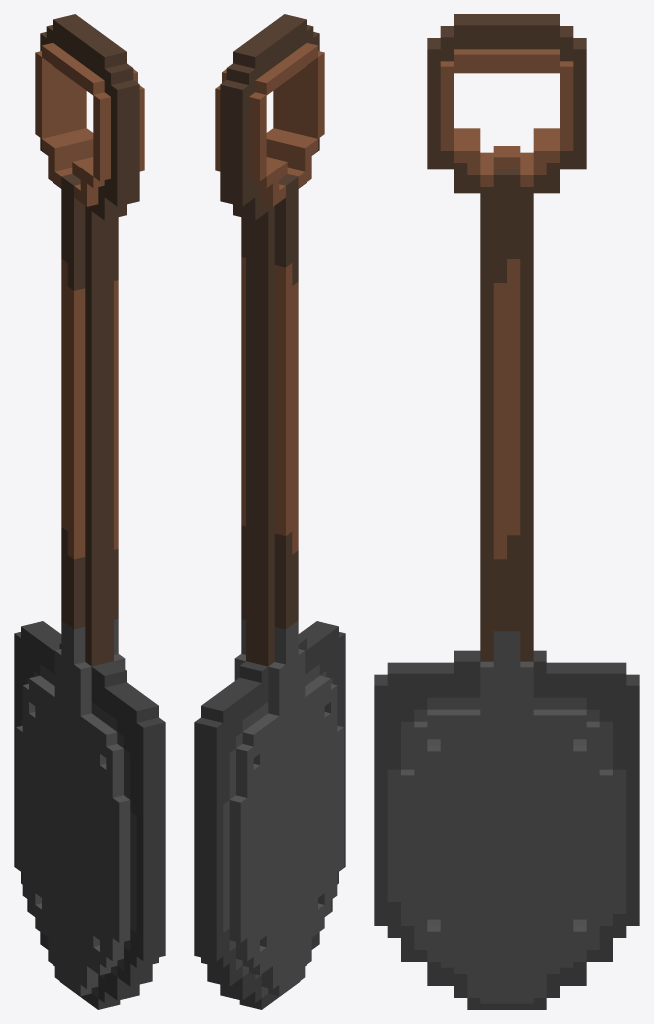
Rendered from tool_shovel.glb.
The picture shows the model from 3 angles, left to right: view 1: azimuth 30°, elevation 25°; view 2: azimuth 150°, elevation 25°; view 3: azimuth 270°, elevation 25°; orthographic projection. The views are drawn at different scales.
Visible parts, largest first — view 1: tool_shovel; view 2: tool_shovel; view 3: tool_shovel.
Part boxes in pixels (bbox=[...]): tool_shovel: bbox=[14, 14, 165, 1009]; tool_shovel: bbox=[194, 14, 345, 1009]; tool_shovel: bbox=[374, 14, 639, 1009].
Bounding box in the file's own units: 0.4 × 8.2 × 2.
Materials: 1 (1 with a texture image).
